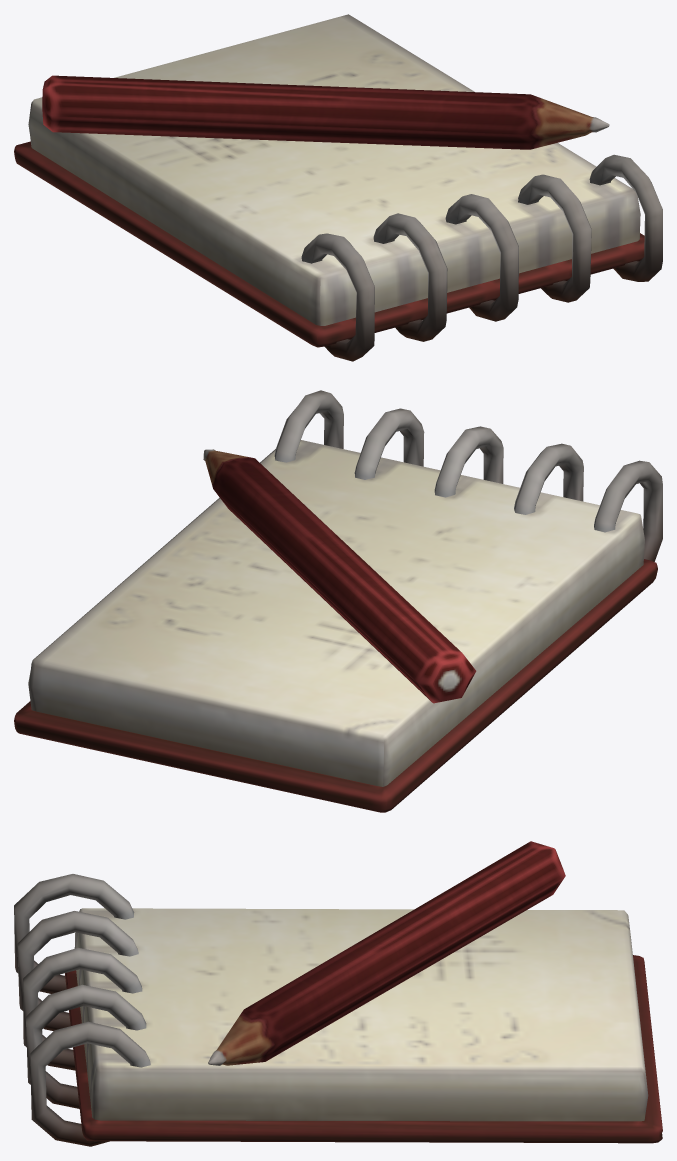
File: Copy pancil.fbx
3 renders of one model, top to bottom at view 1: azimuth 30°, elevation 25°; view 2: azimuth 150°, elevation 25°; view 3: azimuth 270°, elevation 25°, orthographic. The views are drawn at different scales.
Parts seen in each view (by area): view 1: SM_Notebook_M_Pen_Notebook_0, SM_Pen_M_Pen_Notebook_0; view 2: SM_Notebook_M_Pen_Notebook_0, SM_Pen_M_Pen_Notebook_0; view 3: SM_Notebook_M_Pen_Notebook_0, SM_Pen_M_Pen_Notebook_0.
Boxes of the visible parts, left/top/right/bottom form: SM_Notebook_M_Pen_Notebook_0: left=14, top=14, right=662, bottom=361; SM_Pen_M_Pen_Notebook_0: left=42, top=75, right=609, bottom=149; SM_Notebook_M_Pen_Notebook_0: left=14, top=390, right=662, bottom=812; SM_Pen_M_Pen_Notebook_0: left=203, top=449, right=476, bottom=703; SM_Notebook_M_Pen_Notebook_0: left=14, top=874, right=662, bottom=1146; SM_Pen_M_Pen_Notebook_0: left=208, top=841, right=565, bottom=1065.
Size of the model in its own units: 17.03 by 22.81 by 4.8.
